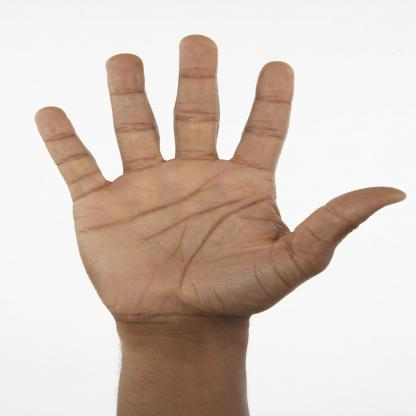palm: (30, 28, 408, 318)
